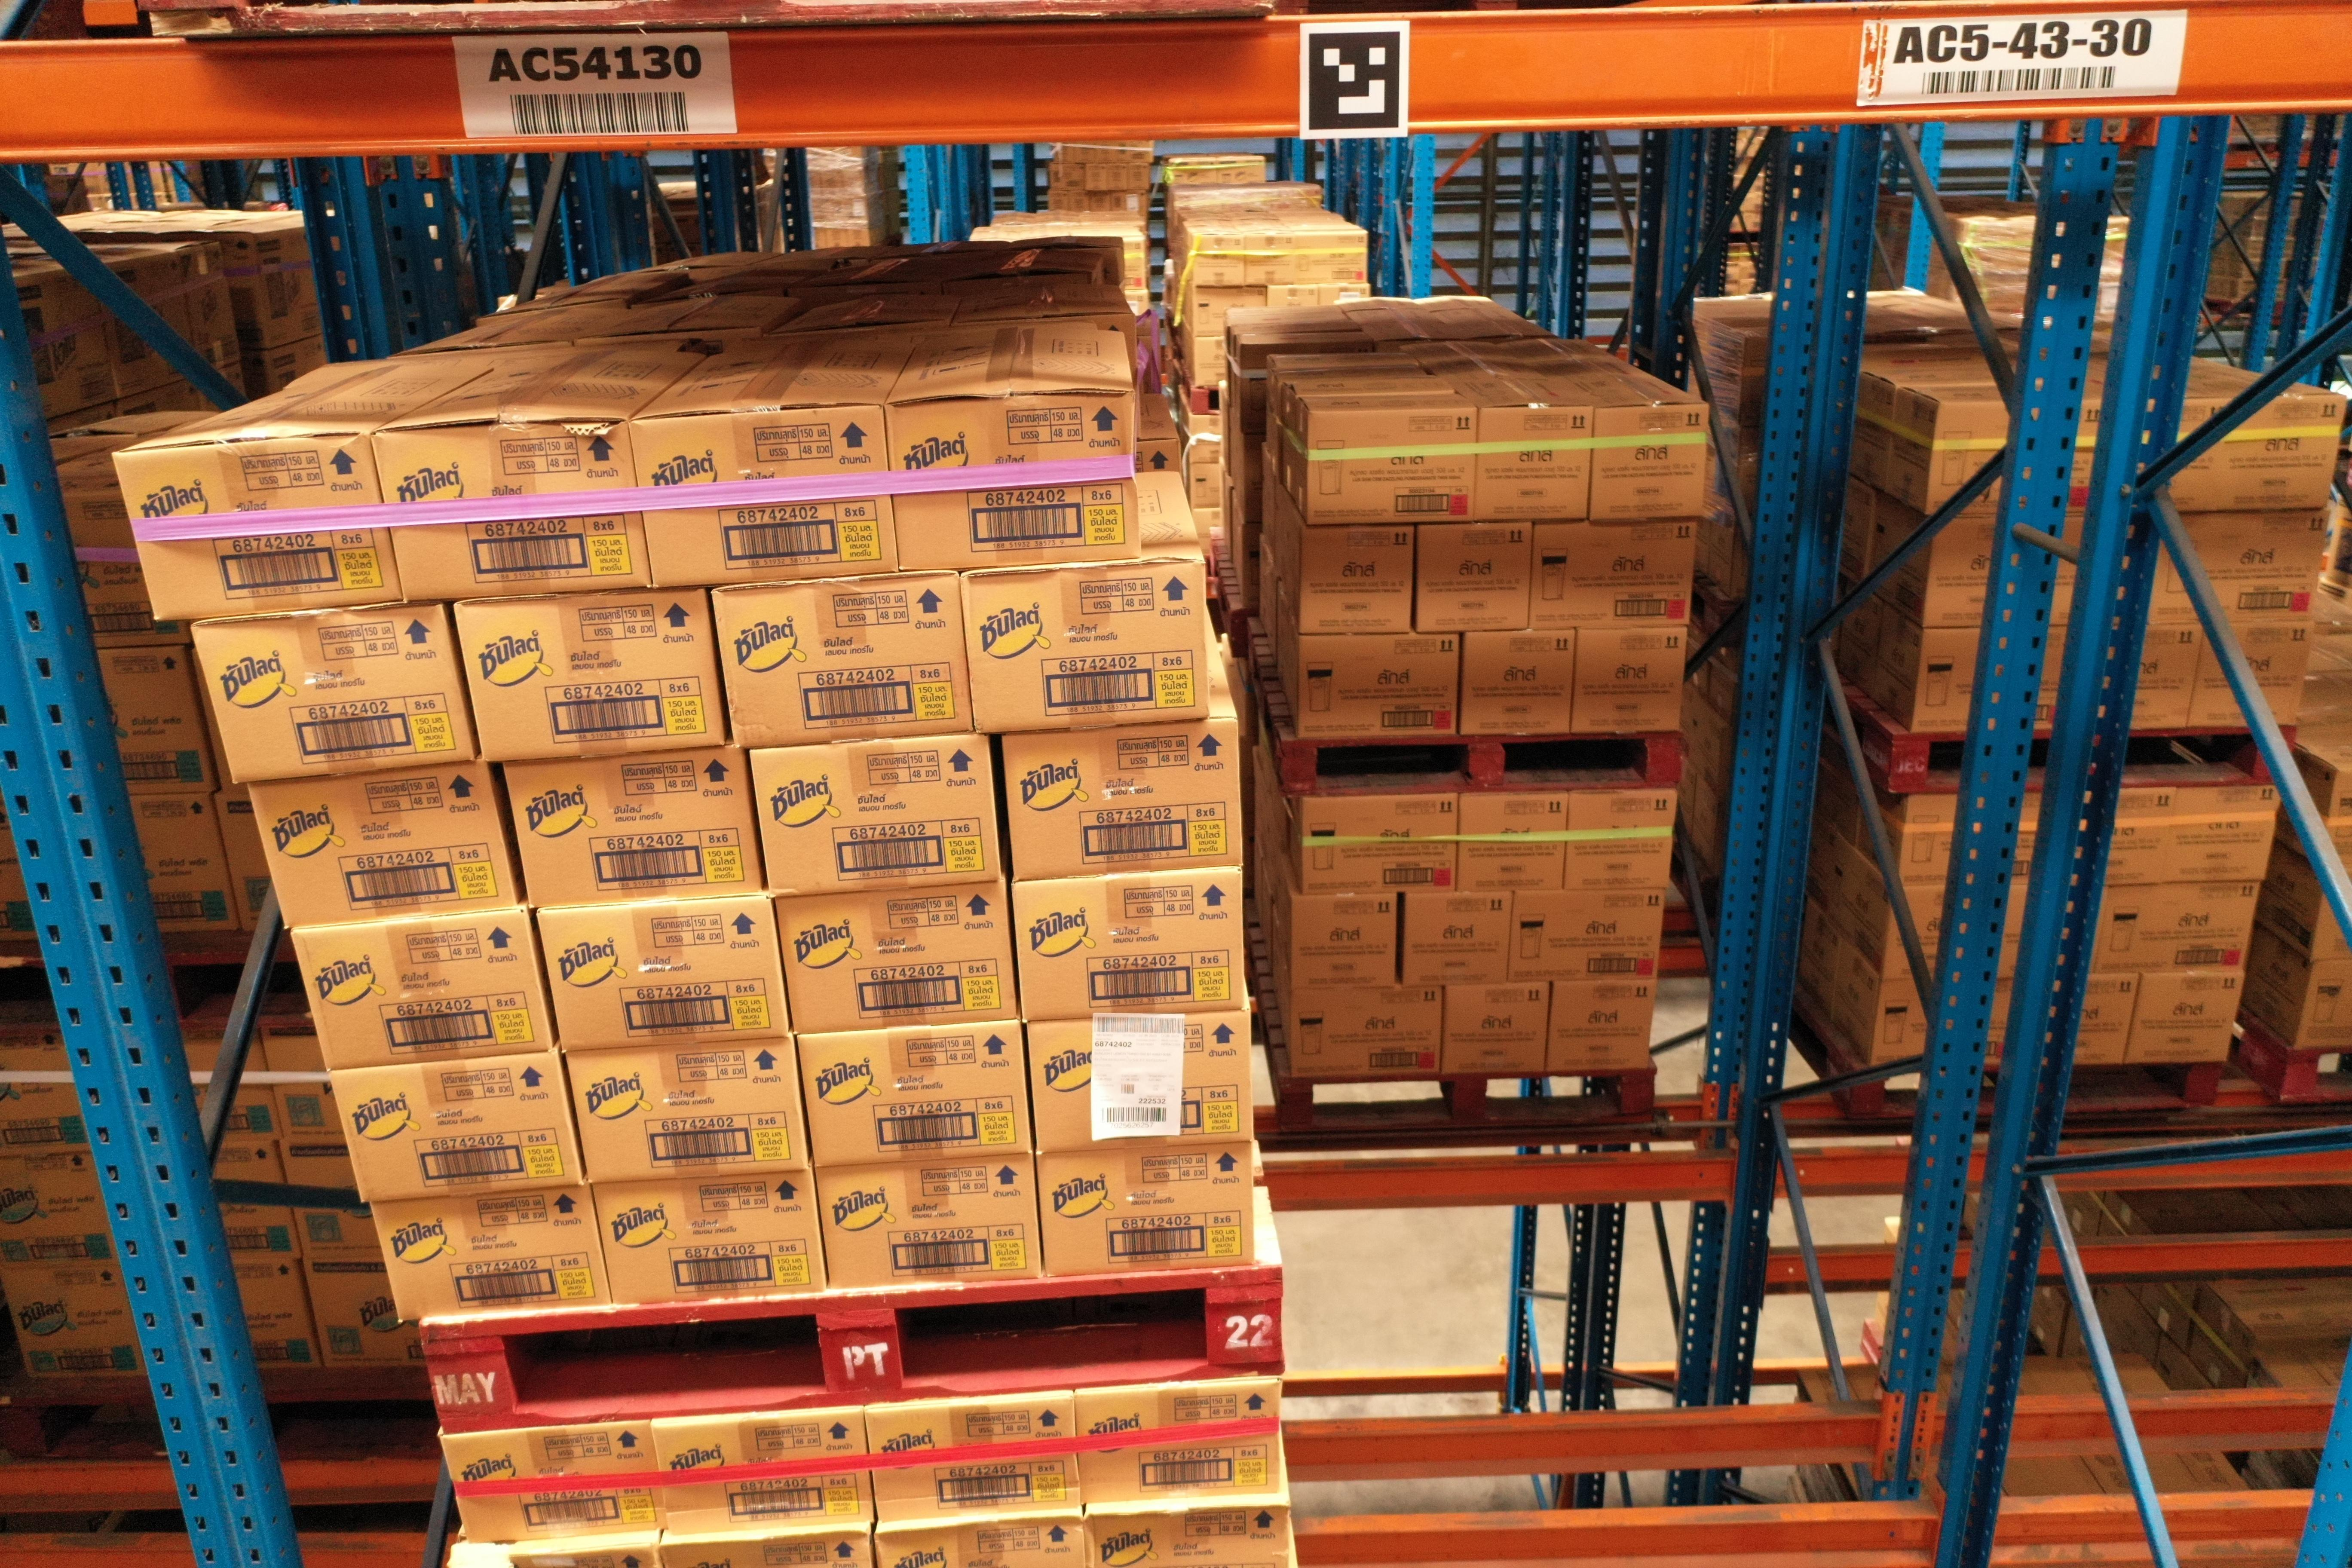-: (107, 429, 402, 623), (187, 598, 476, 786), (625, 404, 903, 591), (371, 420, 649, 605), (705, 570, 976, 751), (878, 390, 1139, 576), (451, 590, 726, 763), (241, 761, 518, 931), (961, 556, 1209, 742), (500, 745, 763, 912), (287, 910, 551, 1073), (747, 731, 999, 899), (1003, 719, 1244, 885), (327, 1050, 584, 1206), (535, 898, 793, 1052), (1008, 870, 1248, 1027), (773, 882, 1018, 1036), (794, 1018, 1032, 1169), (562, 1038, 808, 1179), (1025, 1010, 1249, 1160), (367, 1186, 612, 1323), (590, 1172, 831, 1309), (812, 1157, 1041, 1288), (864, 1396, 1083, 1529), (1038, 1143, 1253, 1276), (439, 1421, 667, 1545), (649, 1410, 877, 1533), (1076, 1381, 1284, 1510), (1088, 1505, 1293, 1568), (873, 1515, 1092, 1568), (665, 1529, 873, 1568)
2: (2165, 395, 2345, 520), (1304, 404, 1480, 530), (2151, 509, 2329, 626), (1533, 518, 1701, 630), (1297, 632, 1461, 738), (2091, 880, 2256, 978), (1304, 793, 1461, 892), (1508, 887, 1664, 982), (1291, 985, 1444, 1081), (1475, 406, 1596, 521), (1591, 402, 1706, 523), (1297, 523, 1417, 639), (2189, 618, 2315, 726), (1414, 520, 1535, 632), (1573, 623, 1689, 733), (1461, 630, 1575, 737), (1563, 789, 1680, 889), (1925, 399, 2018, 520), (1458, 796, 1564, 898), (2123, 973, 2240, 1062), (1291, 892, 1398, 990), (1402, 891, 1512, 985), (2165, 787, 2277, 880), (1545, 982, 1654, 1071), (1445, 982, 1549, 1074), (2130, 621, 2208, 728), (1923, 520, 1998, 630), (1914, 626, 1981, 735), (2102, 789, 2173, 887), (2070, 969, 2138, 1062), (1871, 975, 1932, 1073), (1883, 885, 1946, 980), (1895, 794, 1956, 889)
box: (96, 647, 217, 800), (124, 793, 240, 934), (0, 1151, 115, 1270), (282, 1144, 387, 1270), (306, 1265, 425, 1374), (205, 1144, 306, 1262), (178, 1032, 282, 1144), (261, 1038, 353, 1151), (0, 1041, 91, 1157), (238, 1260, 327, 1372)
